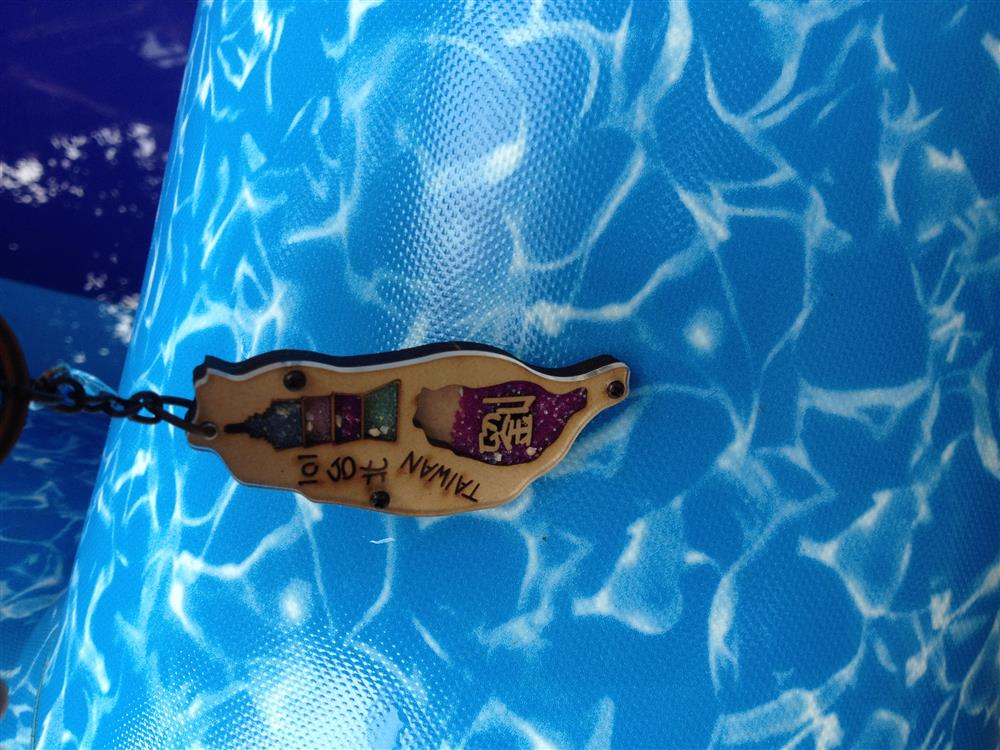taiwan101: (183, 325, 634, 536)
